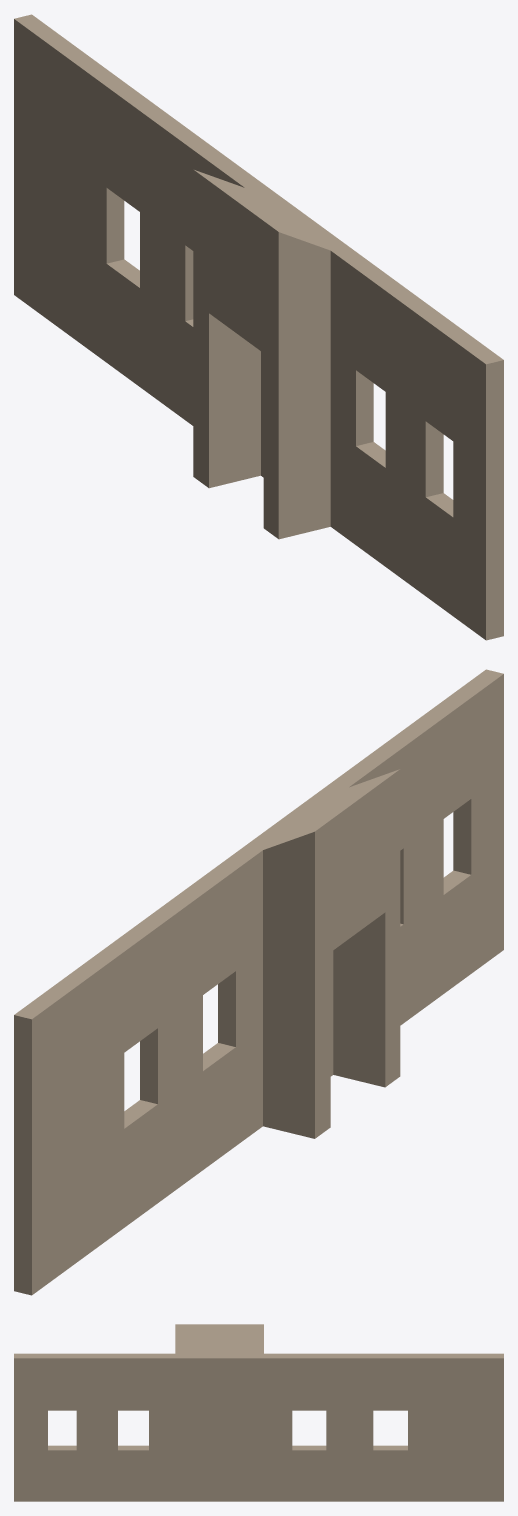
The model's file is KitchenWall02.fbx.
3 renders of one model, top to bottom at view 1: azimuth 30°, elevation 25°; view 2: azimuth 150°, elevation 25°; view 3: azimuth 270°, elevation 25°, orthographic. The views are drawn at different scales.
Visible parts, largest first — view 1: Wall; view 2: Wall; view 3: Wall.
Part boxes in pixels (bbox=[...]): Wall: bbox=[14, 14, 503, 640]; Wall: bbox=[14, 669, 503, 1295]; Wall: bbox=[14, 1324, 503, 1501].
Size of the model in its own units: 1.32 by 5.58 by 15.53.
